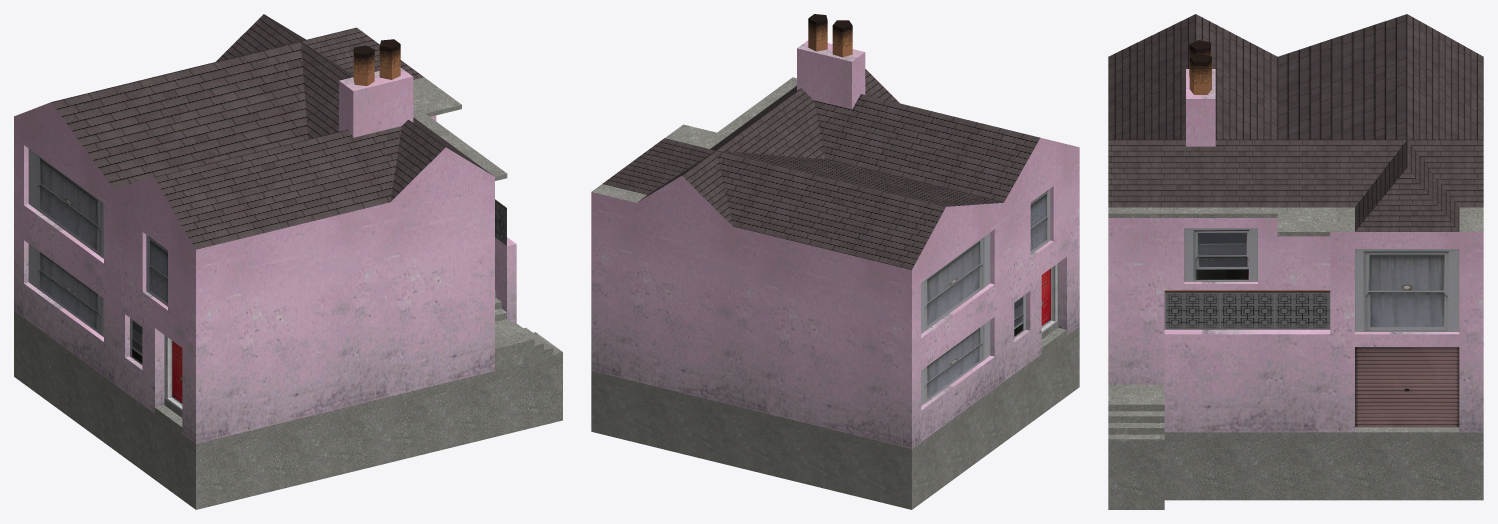
File: box_hse_03_sfxrf.obj
3 renders of one model, left to right at view 1: azimuth 30°, elevation 25°; view 2: azimuth 150°, elevation 25°; view 3: azimuth 270°, elevation 25°, orthographic. The views are drawn at different scales.
Visible parts, largest first — view 1: box_hse_03_SFXRF; view 2: box_hse_03_SFXRF; view 3: box_hse_03_SFXRF.
Boxes of the visible parts, x1=… form: box_hse_03_SFXRF: x1=14, y1=14, x2=562, y2=509; box_hse_03_SFXRF: x1=591, y1=14, x2=1079, y2=509; box_hse_03_SFXRF: x1=1108, y1=14, x2=1483, y2=509.
Size of the model in its own units: 11.61 by 11.35 by 9.98.
